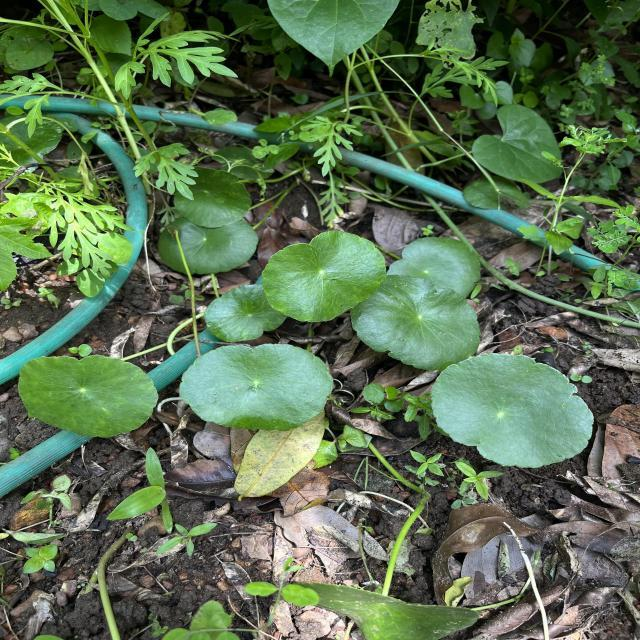Bacopa monnieri: (428, 352, 597, 471), (176, 341, 334, 434), (347, 274, 482, 372), (15, 352, 162, 440), (260, 229, 388, 326), (385, 234, 484, 303), (156, 216, 261, 276), (202, 282, 292, 344), (180, 165, 254, 230)
